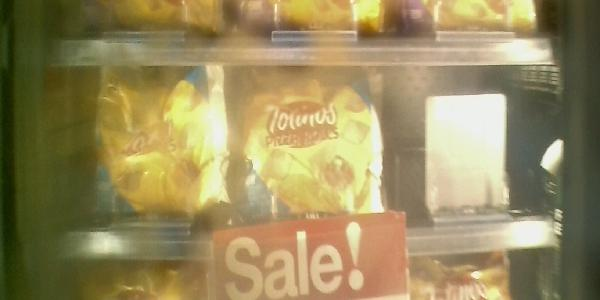icecream: (233, 63, 389, 232), (92, 62, 238, 225)
